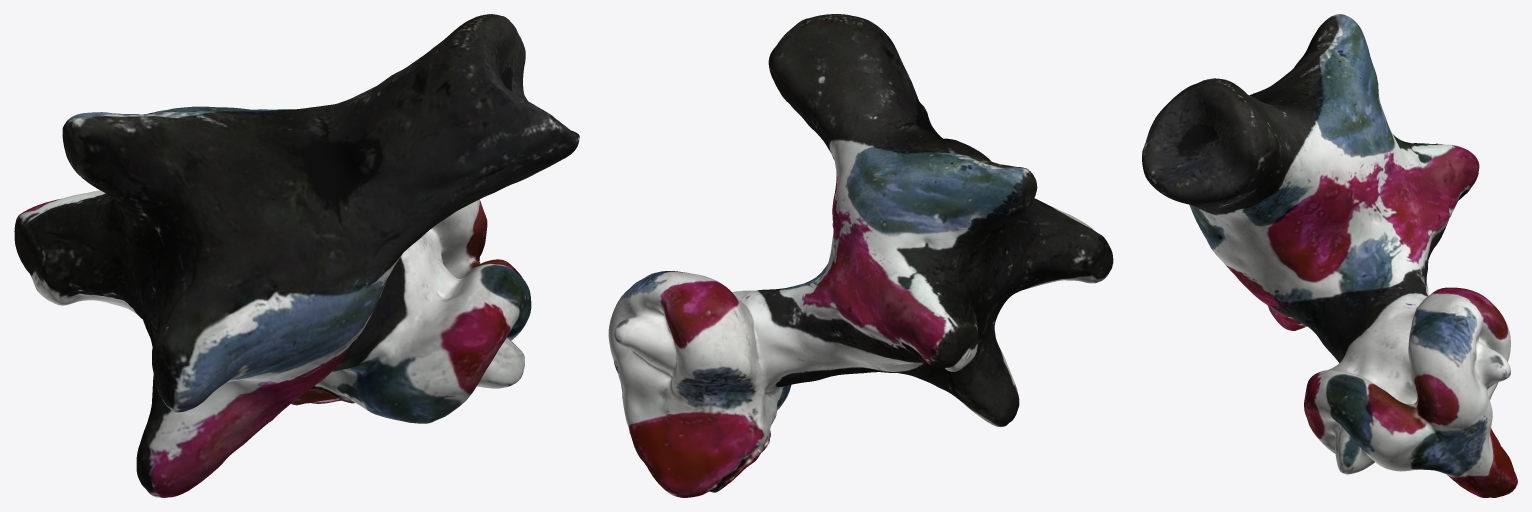
The picture shows the model from 3 angles, left to right: view 1: azimuth 30°, elevation 25°; view 2: azimuth 150°, elevation 25°; view 3: azimuth 270°, elevation 25°; orthographic projection. The views are drawn at different scales.
Size of the model in its own units: 0.4296 by 0.4319 by 0.3663.
Materials: 1 (1 with a texture image).
